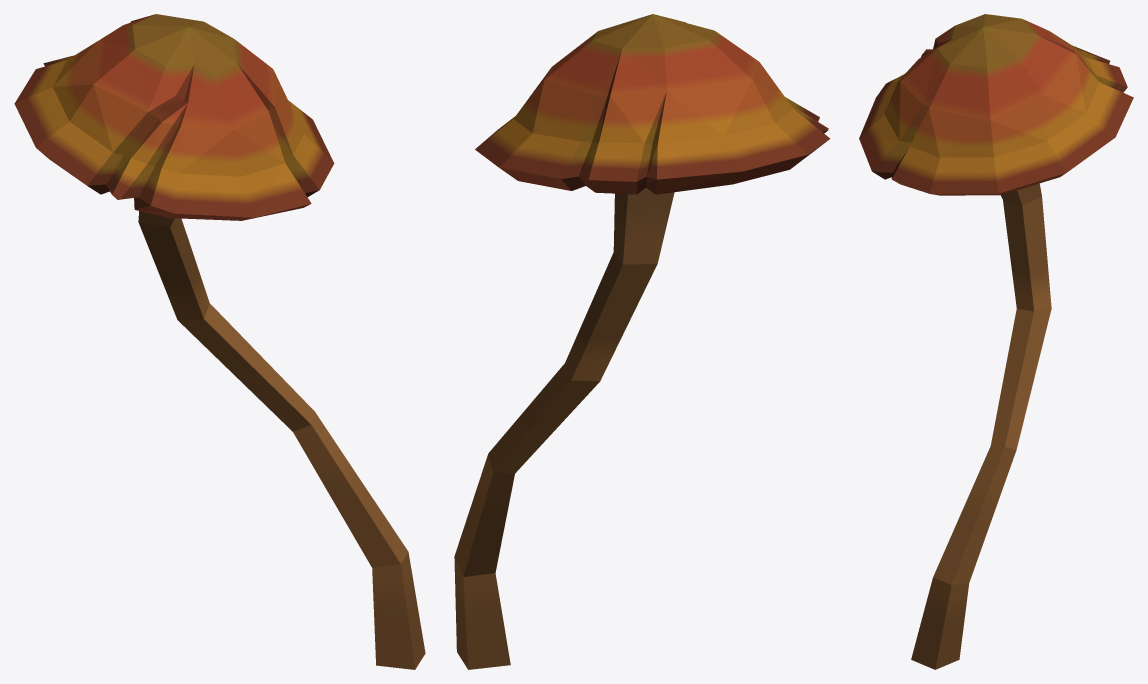
File: um_mushroom002.FBX
3 views of the same model, side by side, from view 1: azimuth 30°, elevation 25°; view 2: azimuth 150°, elevation 25°; view 3: azimuth 270°, elevation 25° (orthographic). The views are drawn at different scales.
Visible parts, largest first — view 1: um_mushroom002; view 2: um_mushroom002; view 3: um_mushroom002.
Boxes of the visible parts, x1=… form: um_mushroom002: x1=14, y1=14, x2=425, y2=669; um_mushroom002: x1=454, y1=14, x2=830, y2=669; um_mushroom002: x1=859, y1=14, x2=1133, y2=669.
Size of the model in its own units: 1.59 by 2.81 by 1.26.
